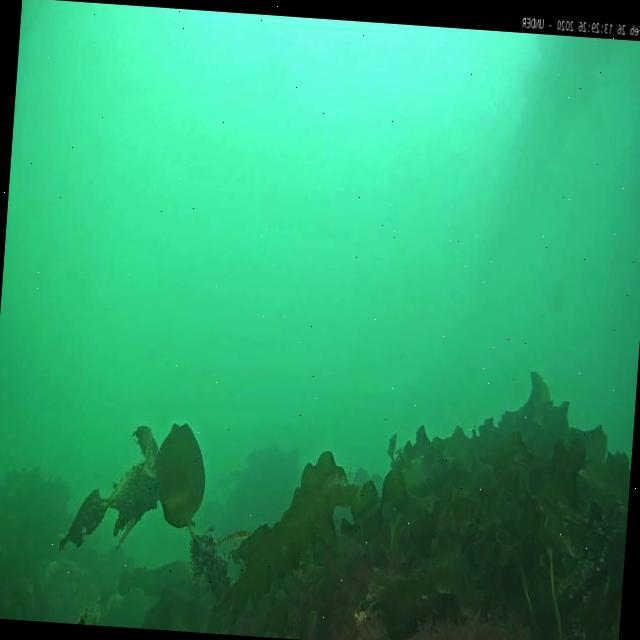fish: (216, 528, 250, 546)
